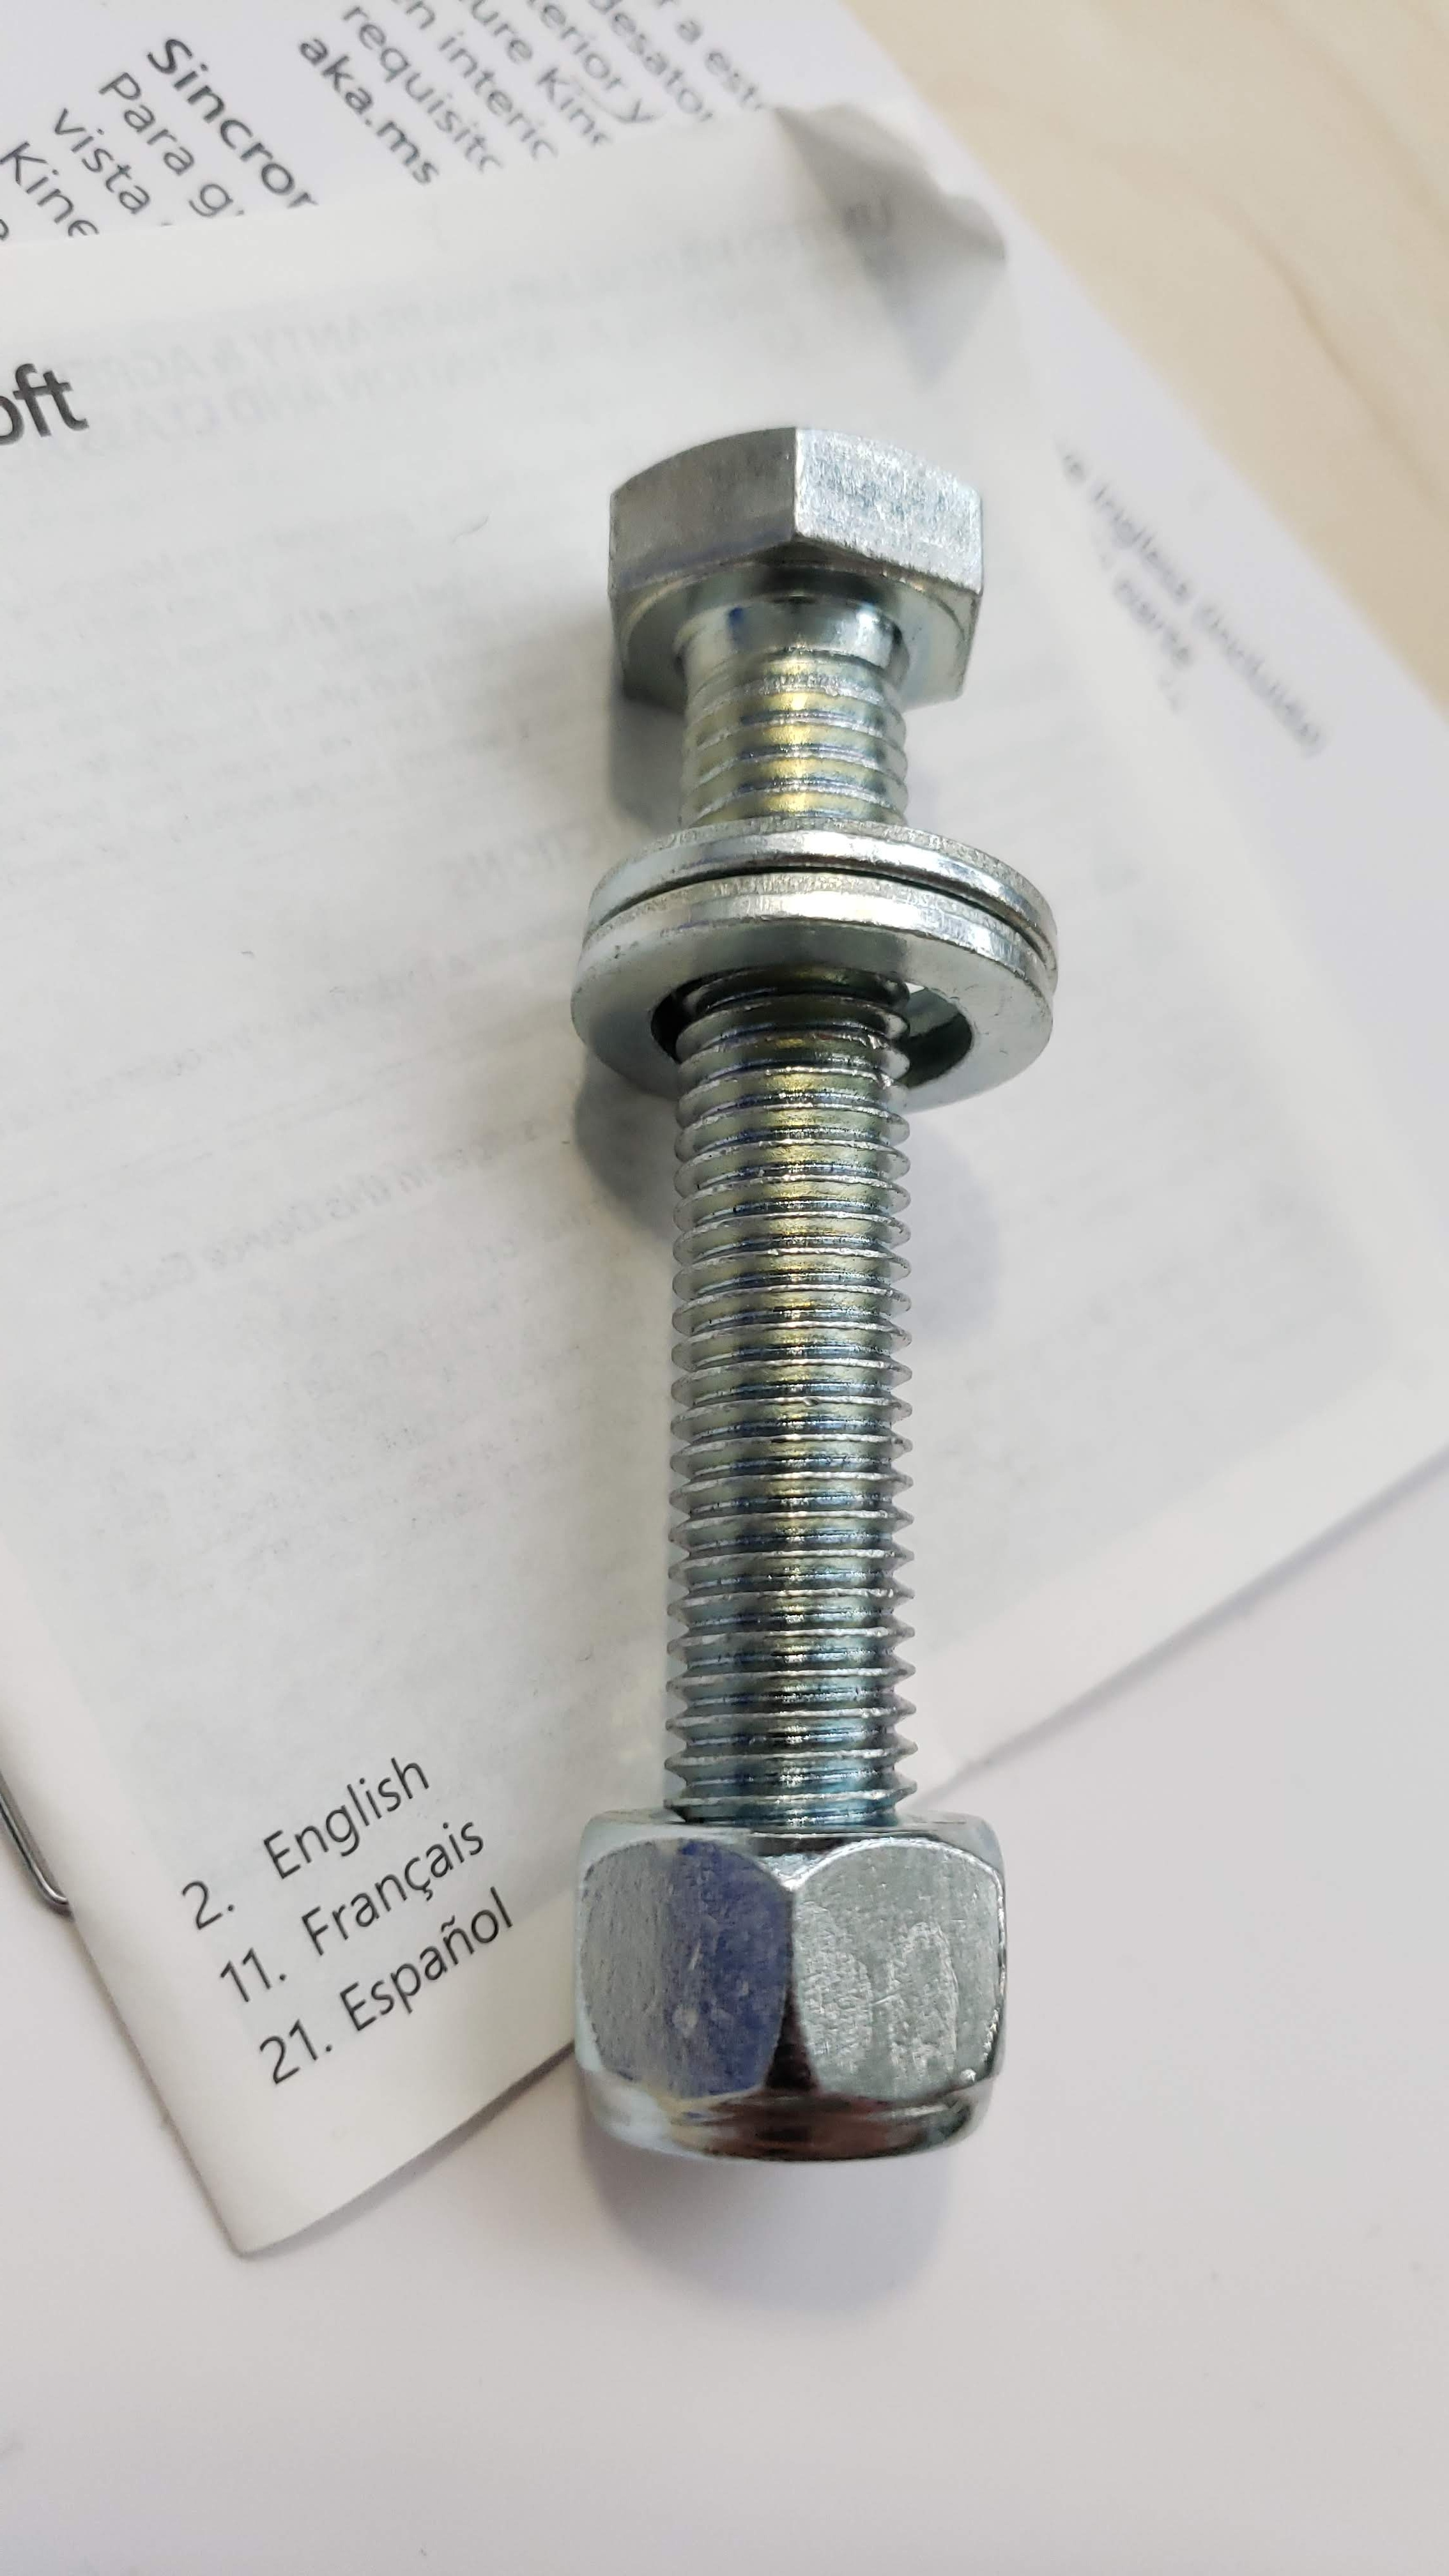FinishedAssembly: (407, 320, 1143, 2353)
